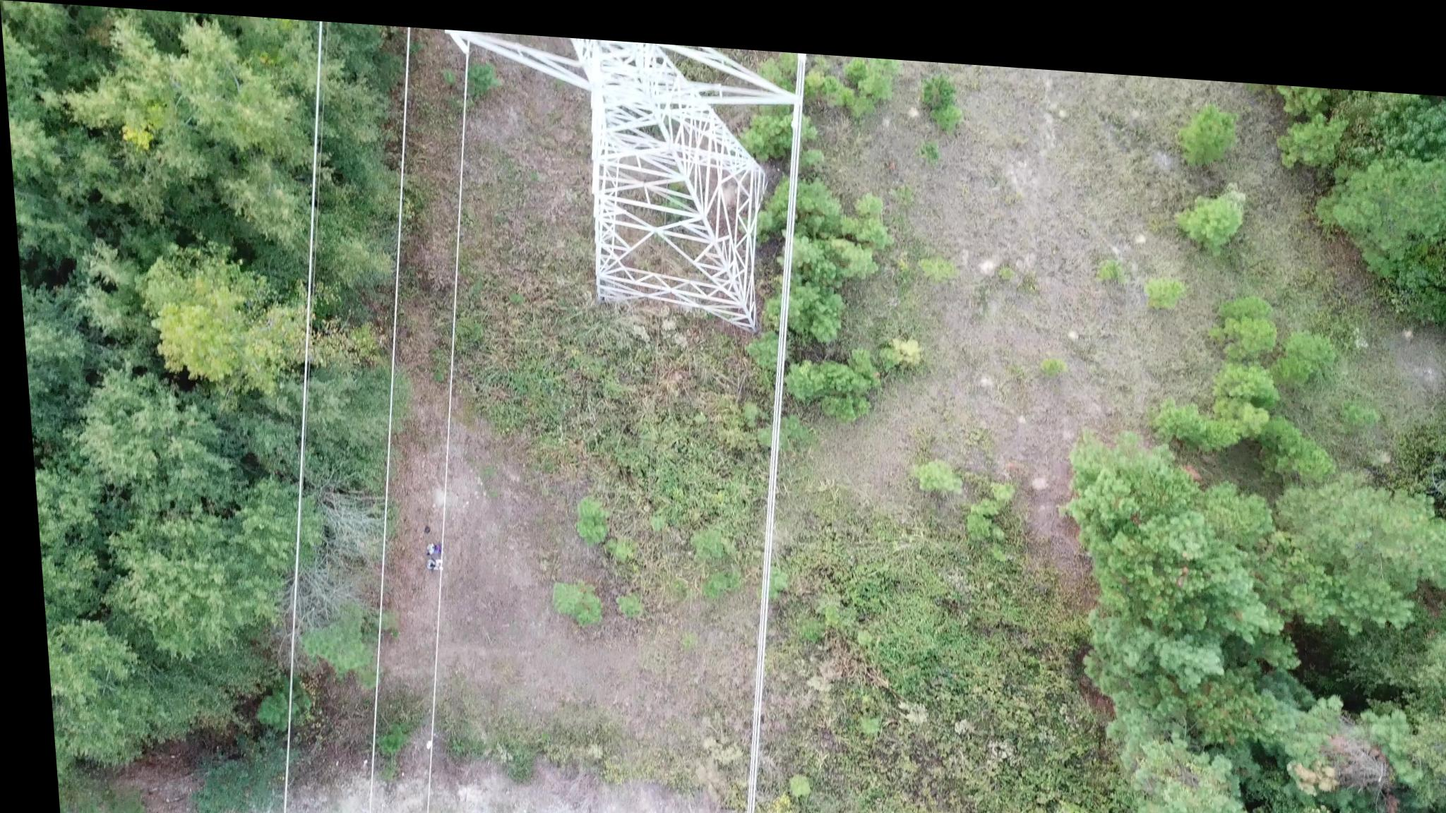tower: (440, 29, 820, 339)
